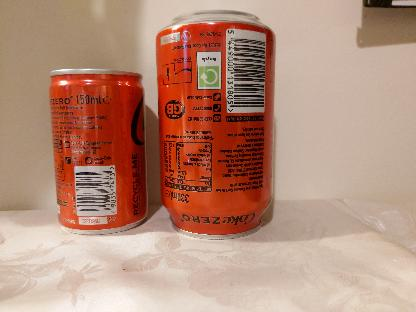Can: (156, 8, 274, 239), (48, 68, 150, 234)
